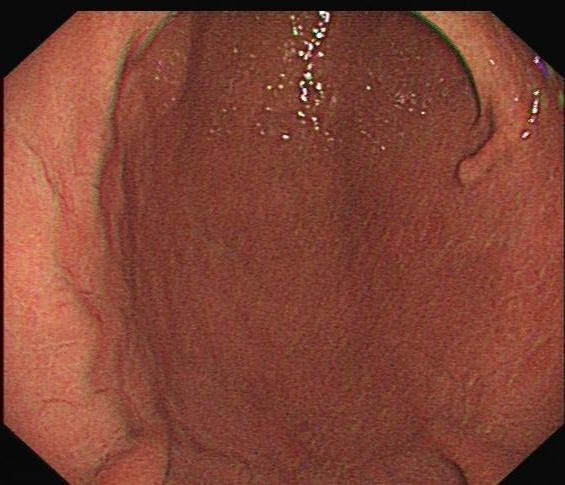Polyp: (438, 73, 531, 197)
